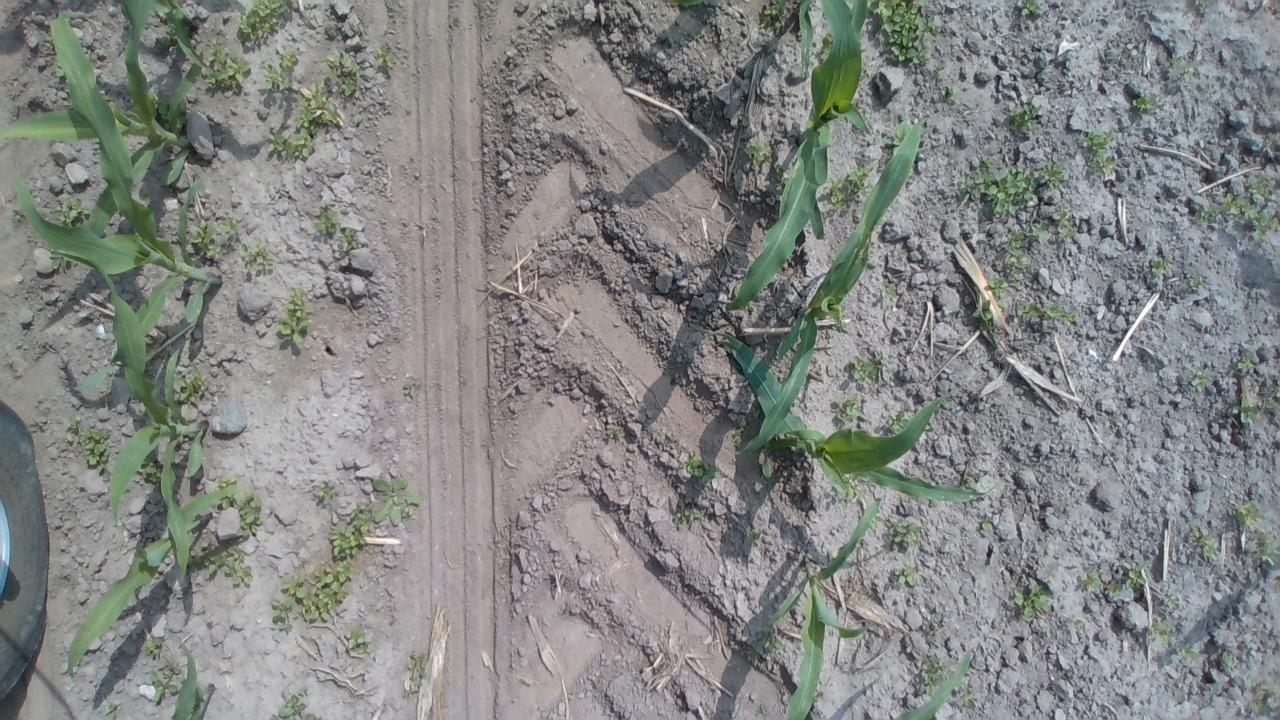Maize: (8, 11, 222, 396), (742, 116, 932, 461), (48, 240, 204, 600), (5, 0, 218, 250), (726, 323, 988, 521), (720, 3, 864, 312), (55, 472, 242, 677), (746, 498, 890, 720)
Weeds: (270, 566, 360, 628), (868, 0, 938, 68), (1220, 179, 1280, 254), (966, 163, 1034, 221), (326, 503, 389, 565), (189, 536, 256, 590), (237, 0, 300, 49), (370, 474, 420, 534), (199, 40, 251, 95), (1006, 577, 1058, 630), (272, 282, 313, 348), (298, 87, 346, 134), (1012, 296, 1082, 327), (1226, 494, 1272, 538), (1079, 126, 1116, 178), (262, 127, 314, 164), (746, 624, 786, 671), (826, 165, 869, 208), (148, 660, 188, 706), (1106, 552, 1146, 596), (184, 220, 221, 267), (78, 424, 110, 478), (1003, 100, 1048, 138), (268, 693, 330, 720), (326, 50, 367, 90), (1001, 223, 1033, 273), (178, 372, 220, 410), (728, 525, 768, 564), (1227, 390, 1266, 428), (1144, 251, 1183, 289), (222, 212, 260, 251), (1188, 528, 1224, 568), (662, 497, 704, 531), (886, 517, 929, 549), (684, 449, 718, 489), (210, 468, 238, 514), (916, 647, 949, 685), (825, 392, 866, 422), (402, 652, 430, 695), (338, 622, 371, 658), (242, 238, 275, 274), (1251, 534, 1280, 574), (54, 197, 90, 228), (1044, 209, 1080, 240), (240, 494, 264, 539), (1078, 558, 1106, 596), (741, 134, 774, 166), (140, 452, 172, 485), (259, 63, 289, 98), (1252, 677, 1280, 713), (848, 348, 876, 384), (143, 634, 176, 664), (1190, 198, 1220, 231), (893, 562, 925, 592), (1229, 350, 1259, 380), (972, 295, 1001, 326), (1190, 366, 1220, 394), (756, 0, 794, 22), (279, 45, 305, 77), (370, 42, 396, 74), (879, 406, 912, 431), (1132, 89, 1161, 117), (336, 224, 362, 255), (316, 202, 340, 235), (1214, 647, 1242, 675), (954, 686, 984, 712), (314, 472, 339, 503), (1162, 596, 1194, 620), (1175, 638, 1201, 667), (1039, 161, 1061, 193), (1029, 215, 1054, 243), (404, 374, 426, 404), (879, 277, 902, 305), (1186, 272, 1211, 296), (811, 32, 835, 55), (1065, 614, 1089, 636), (1017, 0, 1046, 18), (982, 276, 1014, 292), (1148, 620, 1166, 644), (928, 620, 946, 644), (604, 424, 630, 439), (752, 701, 772, 720), (661, 426, 681, 443), (943, 84, 960, 102), (980, 516, 996, 534), (1188, 0, 1210, 13), (1183, 63, 1197, 80), (1170, 54, 1184, 68)
